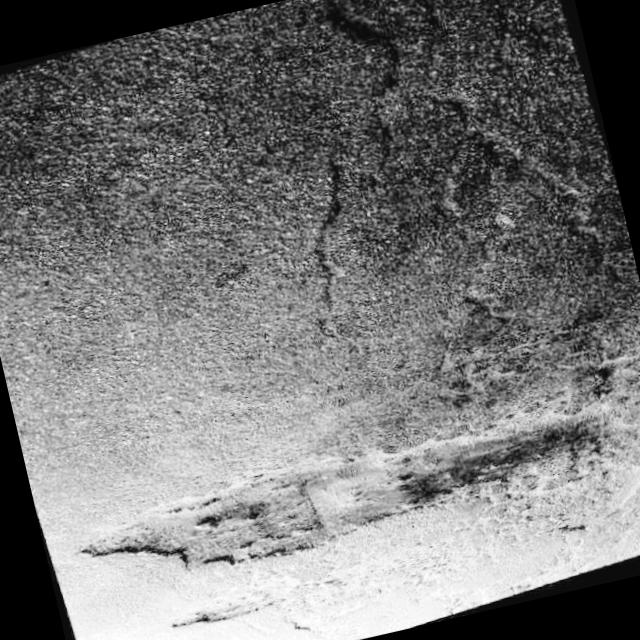Pothole: (60, 363, 618, 640)
